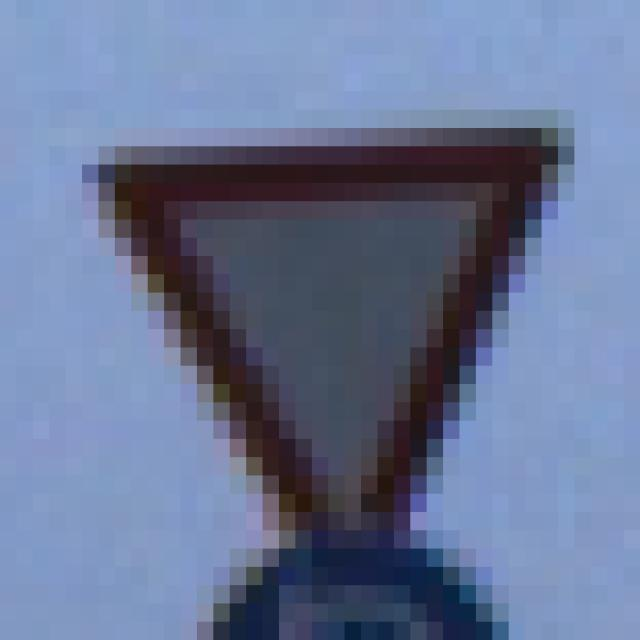Give Way: (99, 93, 559, 550)
